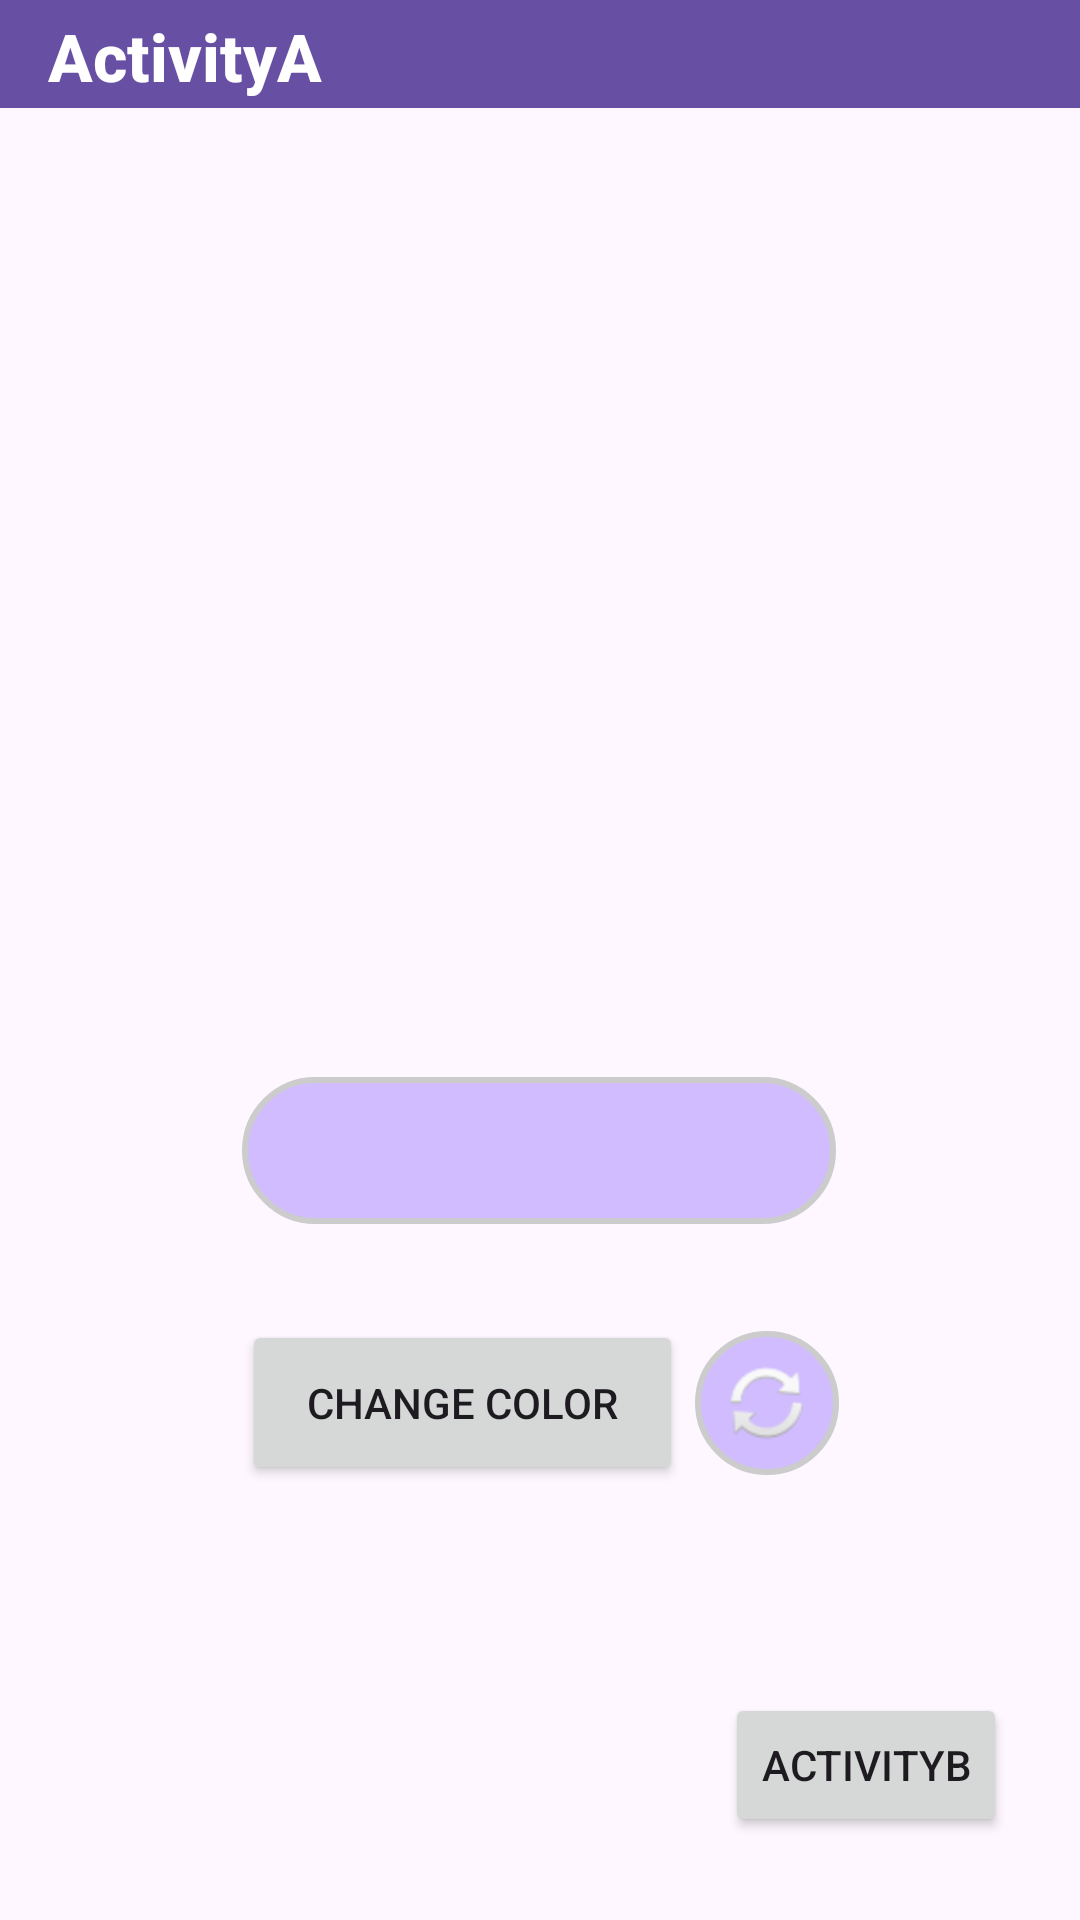

Locate icon controls on the screen. Image size 1080 x 1920, boxes as (x1, y1, x2, y2).
popup sync: (695, 1331, 839, 1475)
